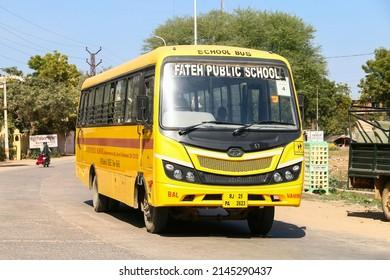bus: (75, 45, 304, 234)
